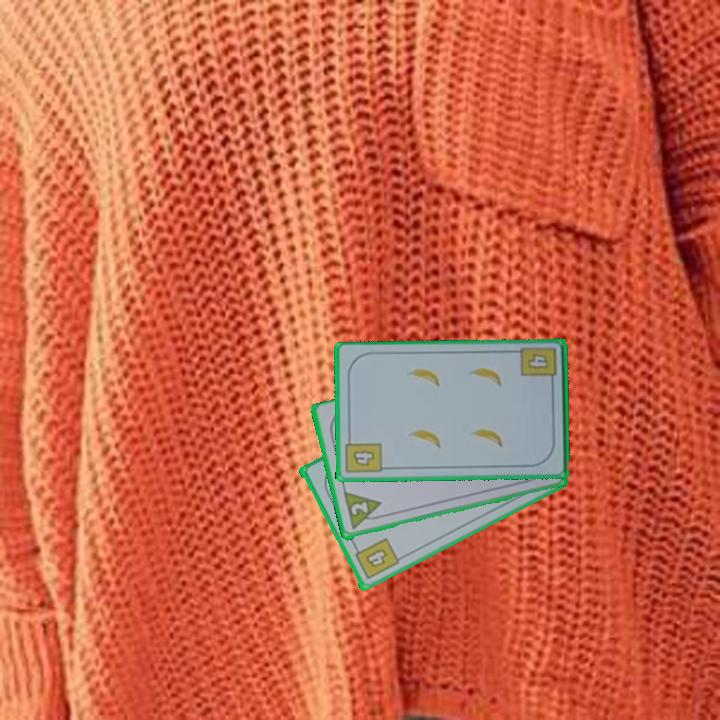2p: (340, 489, 387, 533)
4b: (350, 535, 402, 583), (342, 433, 385, 476), (518, 344, 560, 388)
